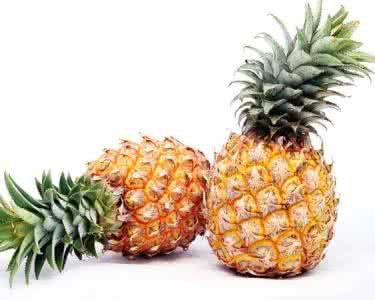pineapple: (205, 2, 355, 286), (4, 123, 208, 268)
